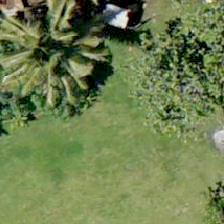Kelapa_Sawit: (3, 1, 93, 91)
